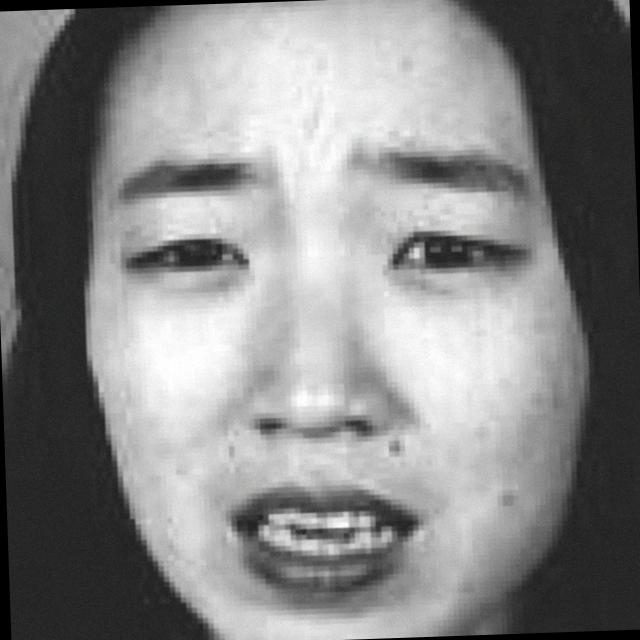fear: (92, 16, 570, 636)
